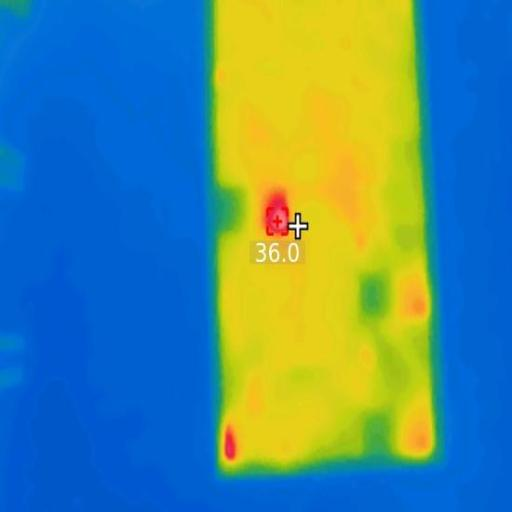hotspot: (264, 197, 291, 235), (223, 425, 238, 462)
